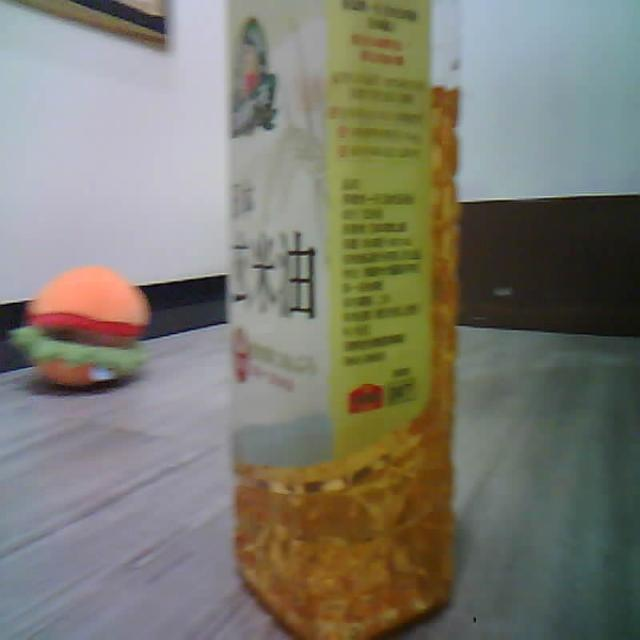bottle: (227, 0, 458, 639)
